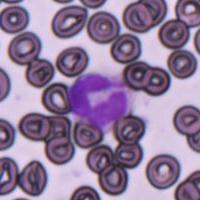M: (66, 70, 134, 132)
